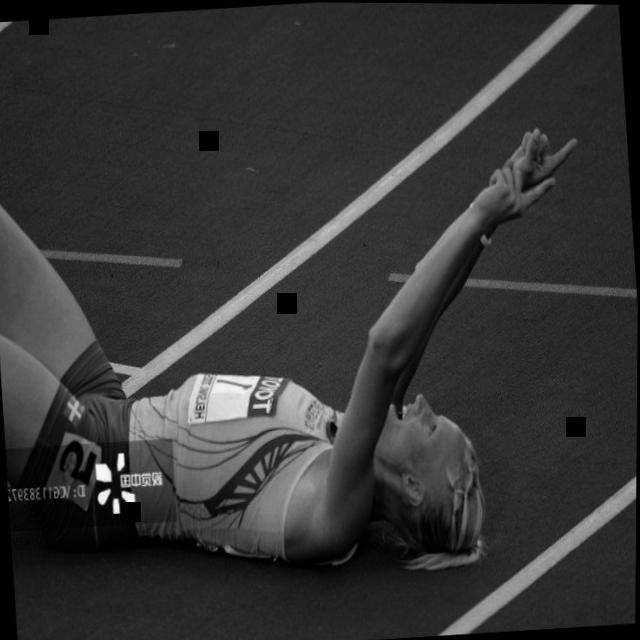Fall-Detected: (0, 72, 625, 610)
